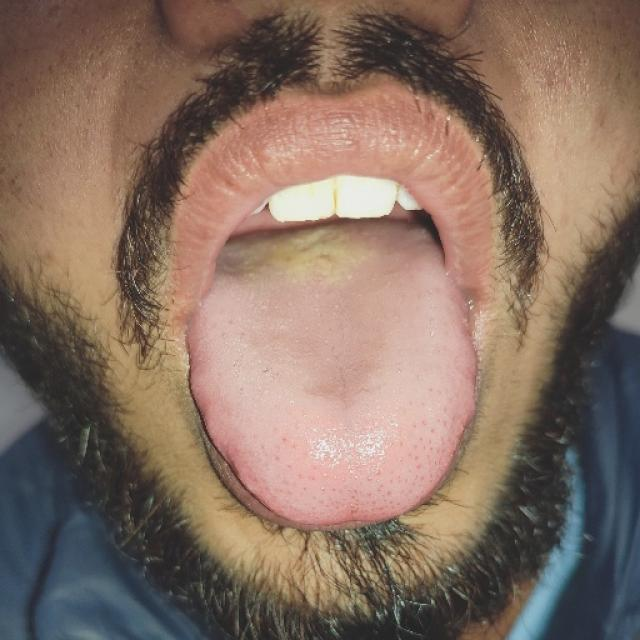processing_area: (189, 216, 481, 525)
